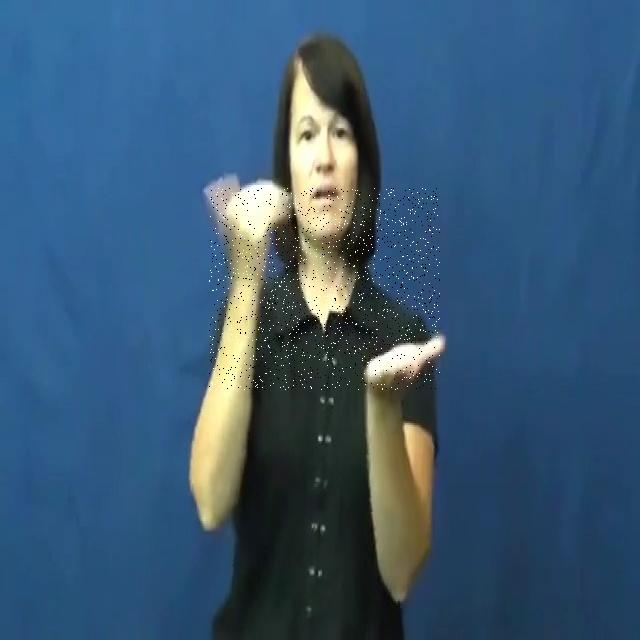refill: (209, 188, 440, 390)
